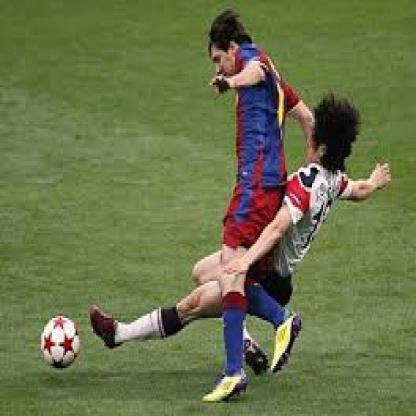Fall_Down: (89, 117, 393, 355)
